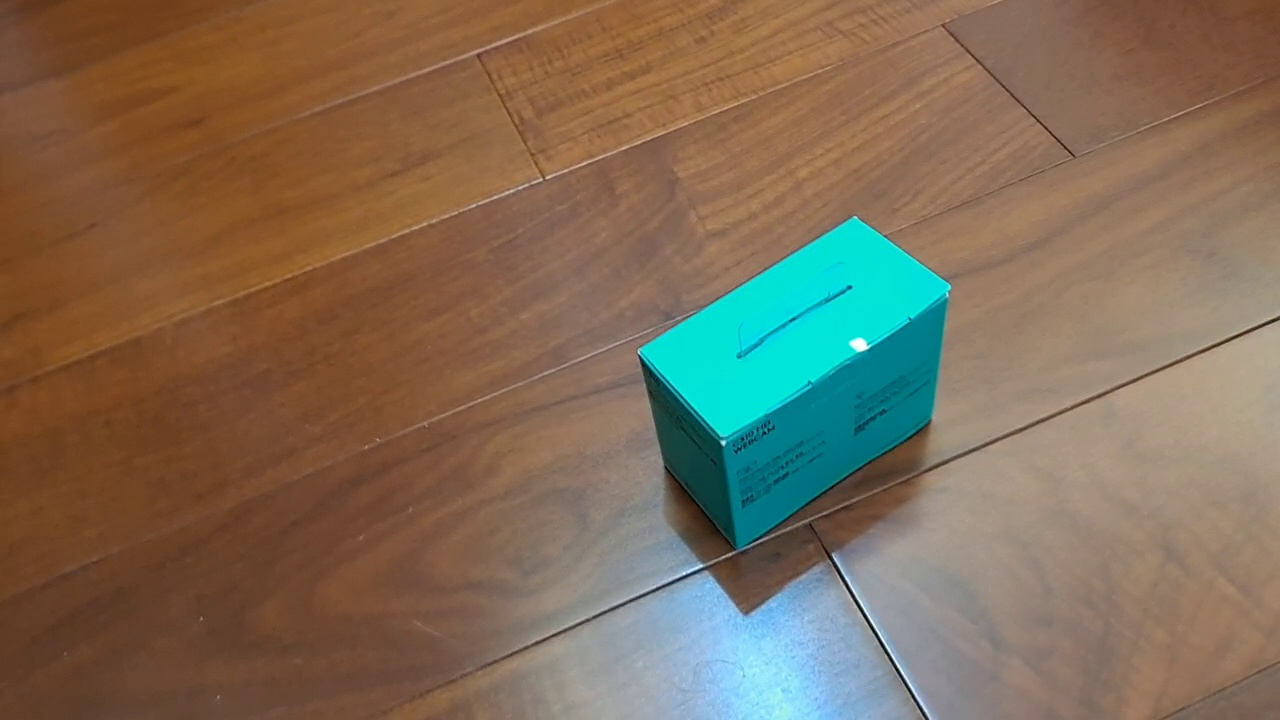webcam: (636, 213, 952, 552)
